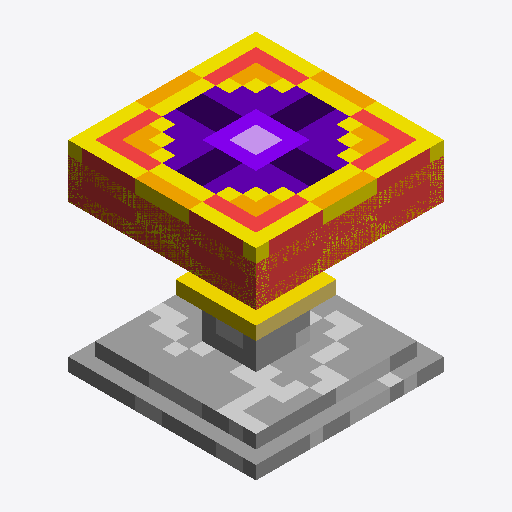
A Minecraft block model of 11 cuboids, rendered isometrically (azimuth 45°, elevation 35.3°) with the resource pack's own textures.
Visible parts, largest first — element 2, element 7, element 1, element 3, element 5, element 8, element 11.
Part boxes in pixels (x1,y1,x2,y2): element 2: (68, 32, 443, 262); element 7: (95, 295, 416, 448); element 1: (68, 342, 443, 479); element 3: (256, 155, 443, 309); element 5: (68, 155, 255, 309); element 8: (176, 272, 335, 340); element 11: (202, 284, 309, 371).
Bounding box in the file's own units: 14 × 15 × 14.